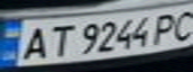2: (96, 17, 121, 54)
4: (130, 14, 160, 48), (115, 15, 139, 51)
9: (75, 19, 103, 56)
A: (12, 24, 54, 62)
C: (166, 6, 193, 42)
P: (148, 10, 184, 45)
T: (39, 21, 75, 59)
